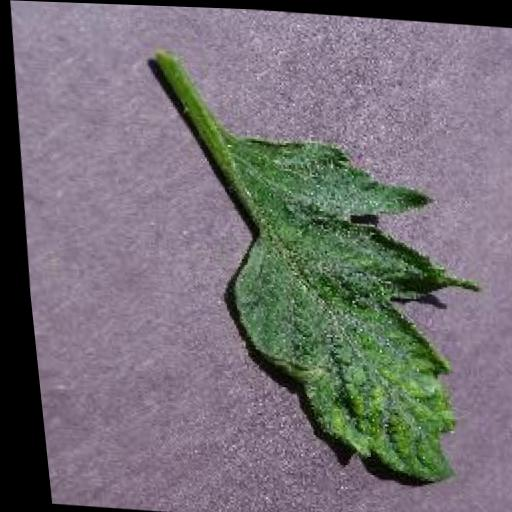Mosaic Virus: (198, 127, 499, 490)
